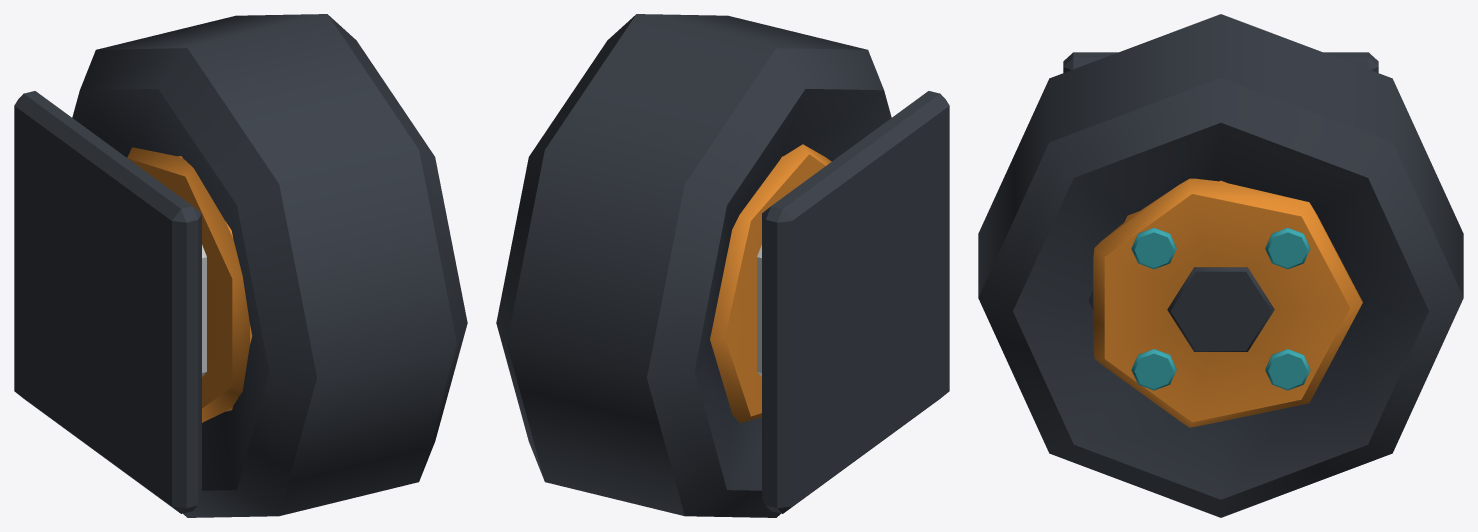
Rendered from R4M_WheelM_Side_Offroad_LOD1.glb.
3 renders of one model, left to right at view 1: azimuth 30°, elevation 25°; view 2: azimuth 150°, elevation 25°; view 3: azimuth 270°, elevation 25°, orthographic. The views are drawn at different scales.
Parts seen in each view (by area): view 1: R4M_WheelM_Side_Offroad_LOD1; view 2: R4M_WheelM_Side_Offroad_LOD1; view 3: R4M_WheelM_Side_Offroad_LOD1.
Part boxes in pixels (left/top/right/bottom): R4M_WheelM_Side_Offroad_LOD1: left=14, top=14, right=467, bottom=517; R4M_WheelM_Side_Offroad_LOD1: left=496, top=14, right=949, bottom=517; R4M_WheelM_Side_Offroad_LOD1: left=978, top=14, right=1463, bottom=517.
Bounding box in the file's own units: 0.452 × 0.77 × 0.77.
